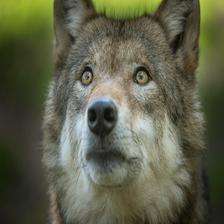WOLF: (50, 1, 199, 224)
